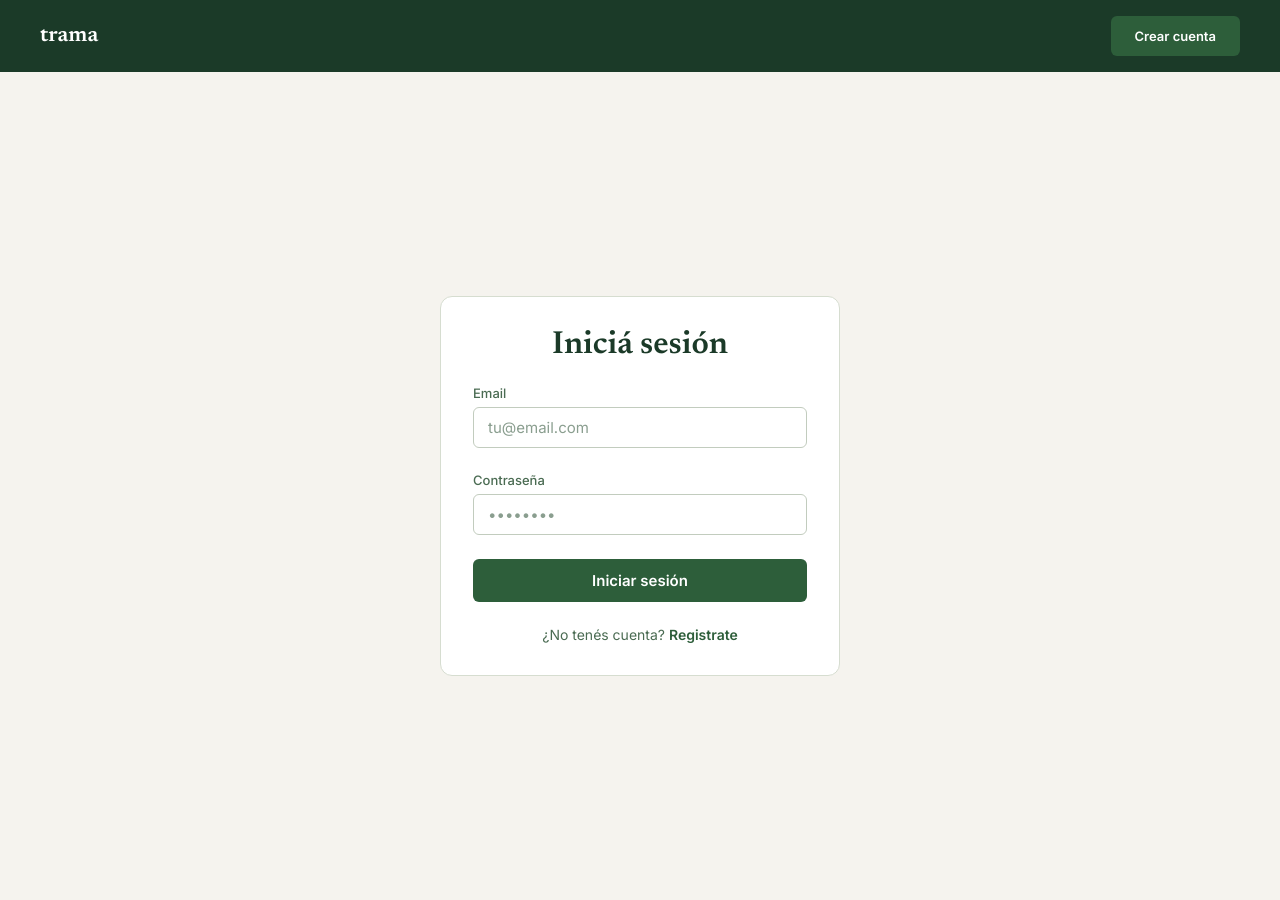
Test: Login › shows error when submitting empty fields
Click the button "Iniciar sesión" at [640, 580], box [473,559,807,602]
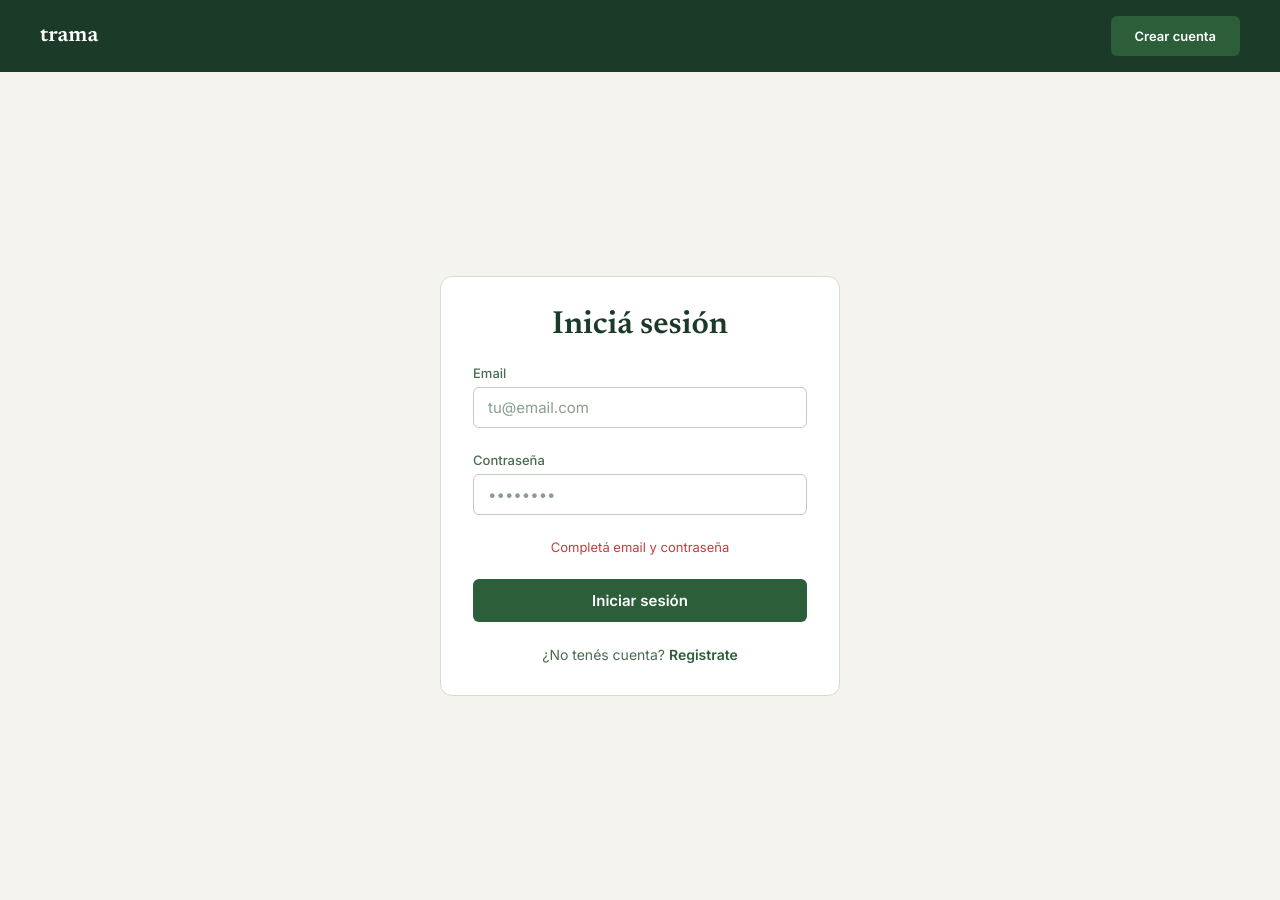
Now the text "Completá email y contraseña" is shown, box [551,539,729,555]
